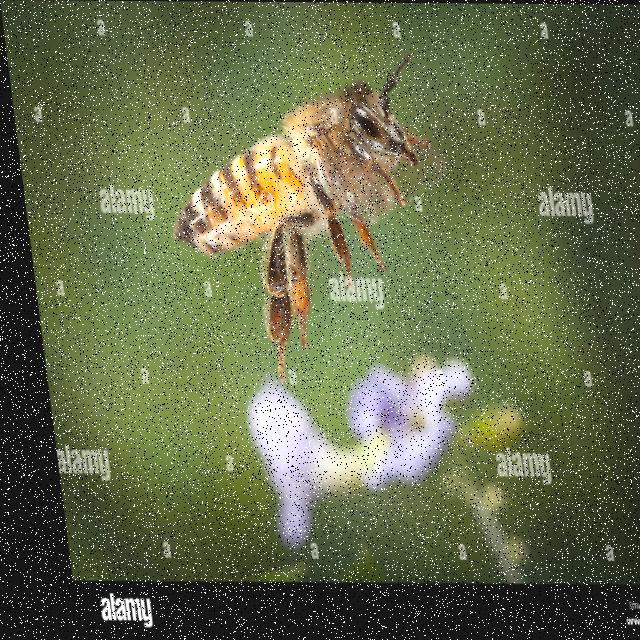Apis-mellifera-scutellata: (124, 75, 467, 365)
